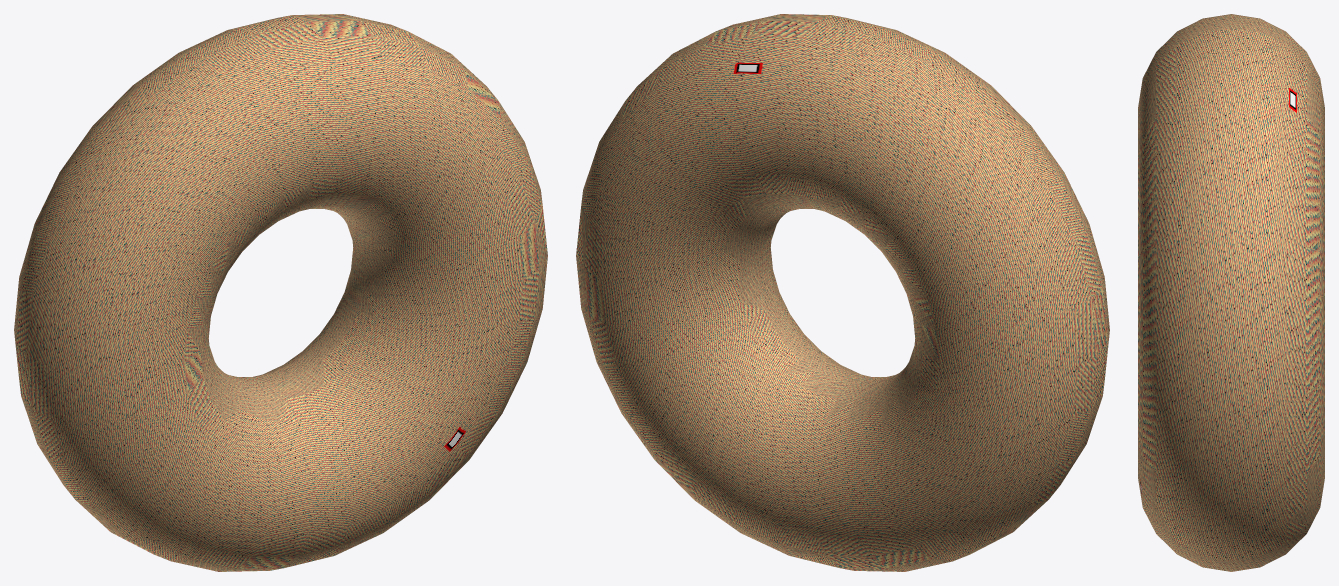
Rendered from uv_checkerboard_res_1024_iter_350_cat_map.obj.
The picture shows the model from 3 angles, left to right: view 1: azimuth 30°, elevation 25°; view 2: azimuth 150°, elevation 25°; view 3: azimuth 270°, elevation 25°; orthographic projection. The views are drawn at different scales.
Size of the model in its own units: 3 by 2.98 by 1.
1 material, 1 textured.
